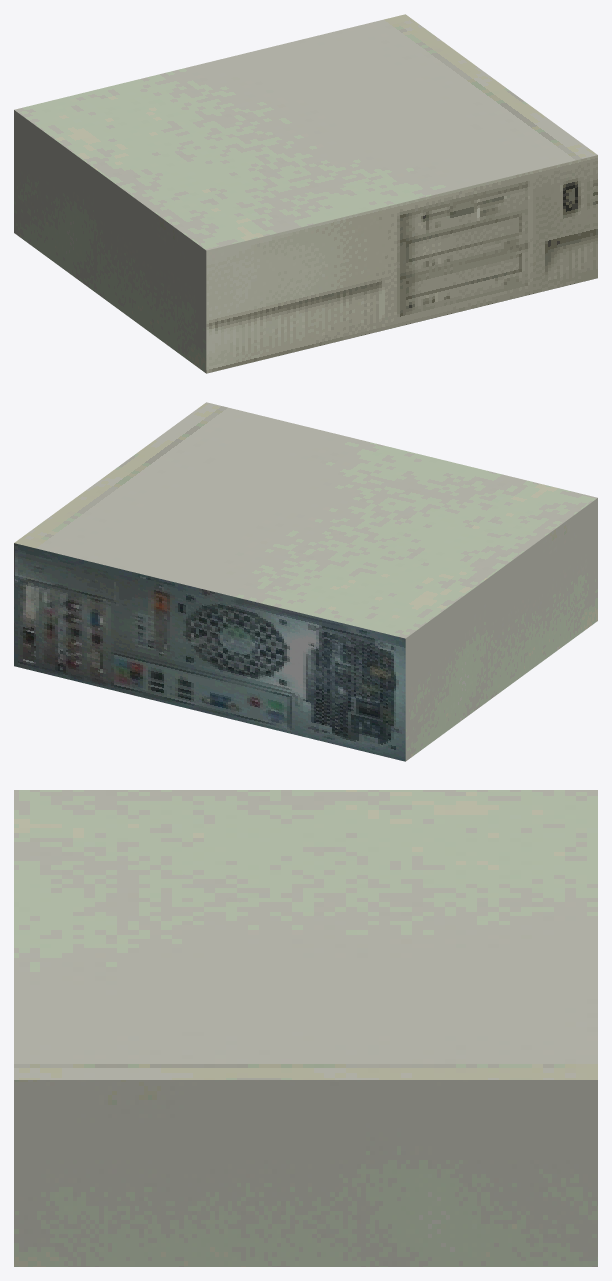
File: horizontal_desktop.glb
3 renders of one model, top to bottom at view 1: azimuth 30°, elevation 25°; view 2: azimuth 150°, elevation 25°; view 3: azimuth 270°, elevation 25°, orthographic. The views are drawn at different scales.
Parts seen in each view (by area): view 1: horizontal_desktop; view 2: horizontal_desktop; view 3: horizontal_desktop.
Part boxes in pixels (x1,y1,x2,y2): horizontal_desktop: (14, 14, 597, 373); horizontal_desktop: (14, 402, 597, 761); horizontal_desktop: (14, 790, 597, 1266).
Bounding box in the file's own units: 0.6804 × 0.2044 × 0.5791.
Materials: 1 (1 with a texture image).
